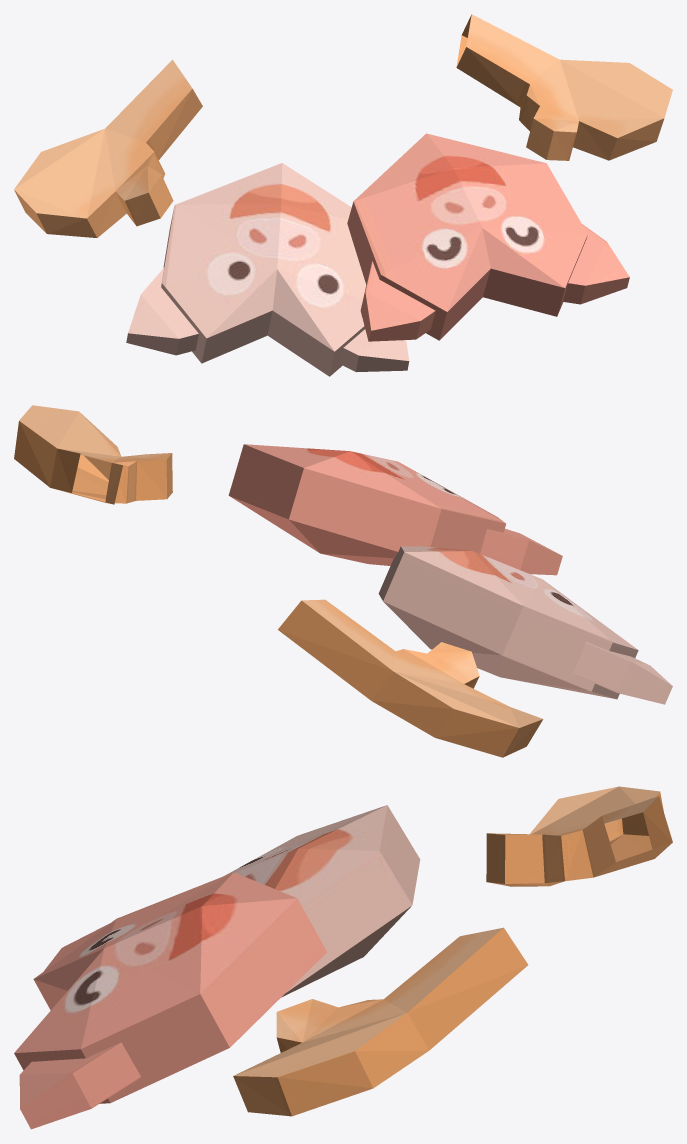
Rendered from xiaolian.FBX.
3 renders of one model, top to bottom at view 1: azimuth 30°, elevation 25°; view 2: azimuth 150°, elevation 25°; view 3: azimuth 270°, elevation 25°, orthographic. The views are drawn at different scales.
Visible parts, largest first — view 1: zuotou, youtou, zuoshou, youshou; view 2: youtou, zuotou, youshou, zuoshou; view 3: zuotou, zuoshou, youtou, youshou.
Boxes of the visible parts, x1,y1,x2,y2 form: zuotou: (347,133,629,341); youtou: (126,163,409,376); zuoshou: (456,14,672,160); youshou: (14,59,202,237); youtou: (378,546,672,704); zuotou: (228,444,562,575); youshou: (278,599,543,757); zuoshou: (14,405,172,504); zuotou: (14,872,326,1129); zuoshou: (233,927,528,1116); youtou: (223,805,420,997); youshou: (486,786,672,886).
Bounding box in the file's own units: 1103 × 395 × 814.
1 material, 1 textured.
